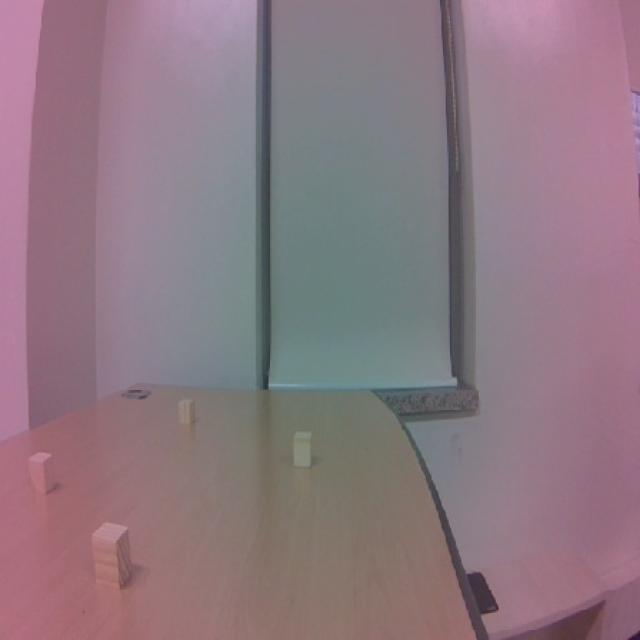obstacle: (88, 520, 144, 602), (19, 440, 72, 516), (281, 427, 324, 476), (168, 392, 208, 438)
